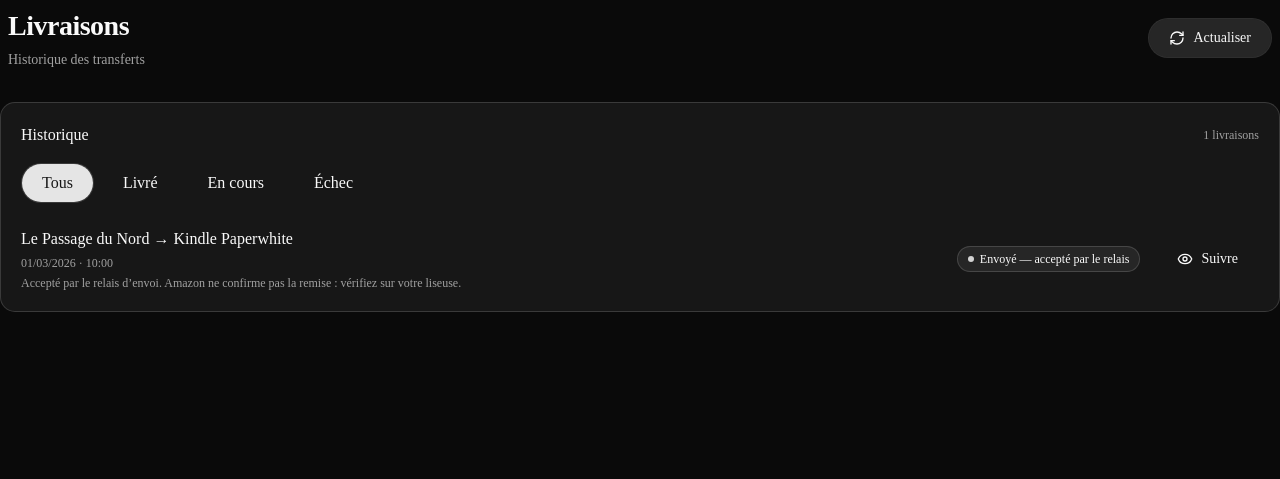
UI harness — deliveries list › keeps known rows and shows a partial refresh banner when refresh fails
Expected: the heading "Le Passage du Nord → Kindle Paperwhite" is shown, [21, 230, 293, 247]
Click the button "Actualiser" at (1210,38), box [1148, 18, 1272, 58]
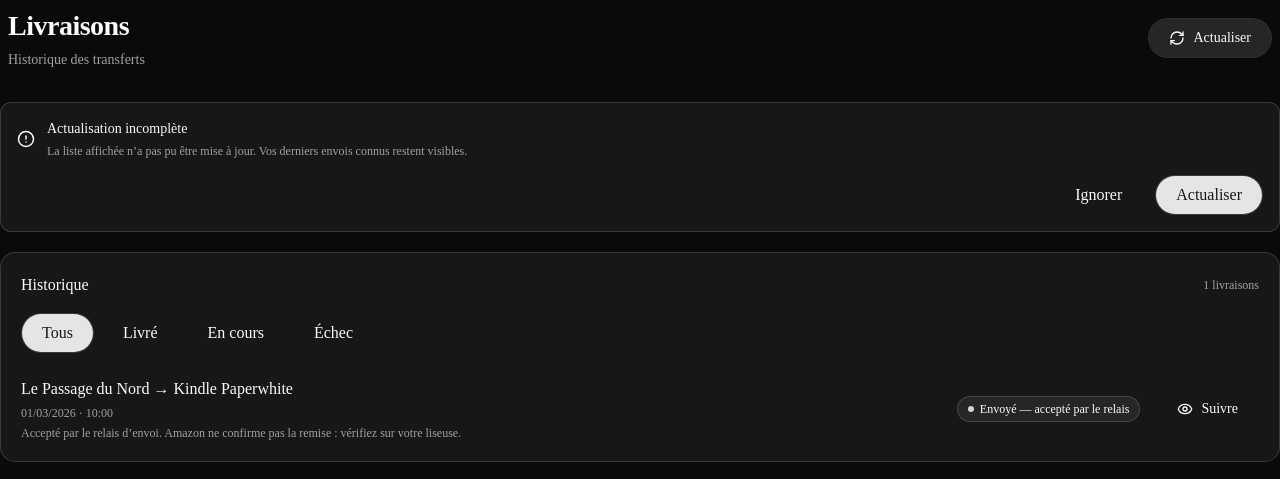
Expected: the heading "Le Passage du Nord → Kindle Paperwhite" is shown, [21, 380, 293, 397]
Now the text "Actualisation incomplète" is shown, box [47, 121, 187, 136]
